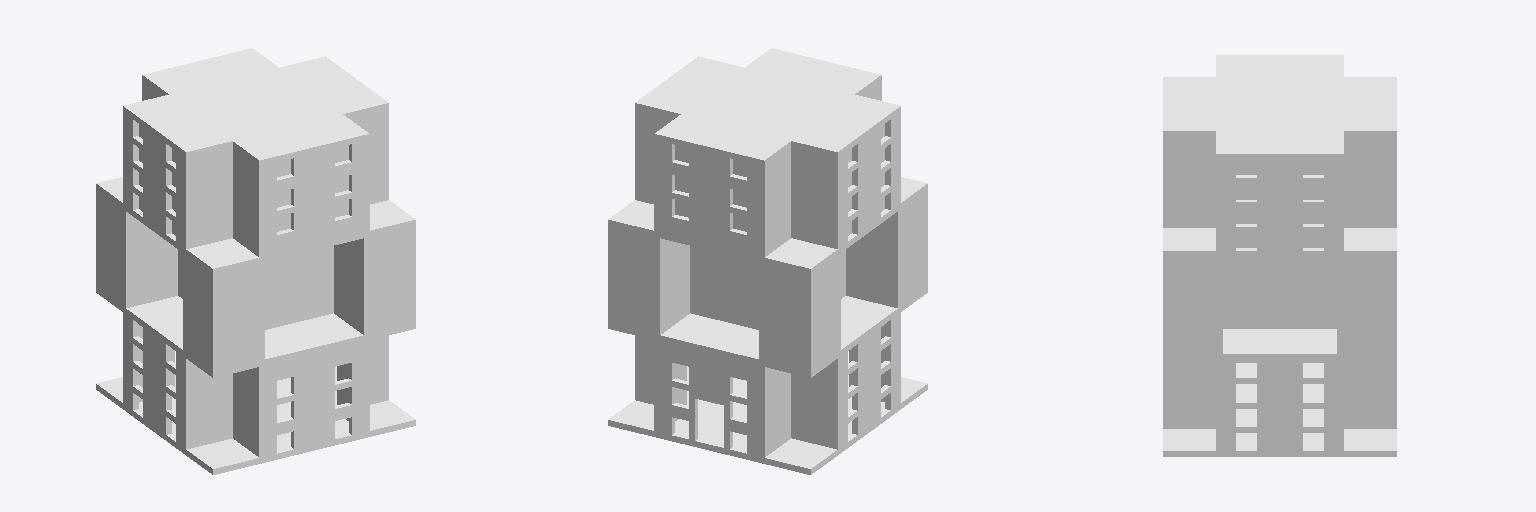
The model's file is bill_G.obj.
3 renders of one model, left to right at view 1: azimuth 30°, elevation 25°; view 2: azimuth 150°, elevation 25°; view 3: azimuth 270°, elevation 25°, orthographic.
Size of the model in its own units: 35 by 50 by 35.